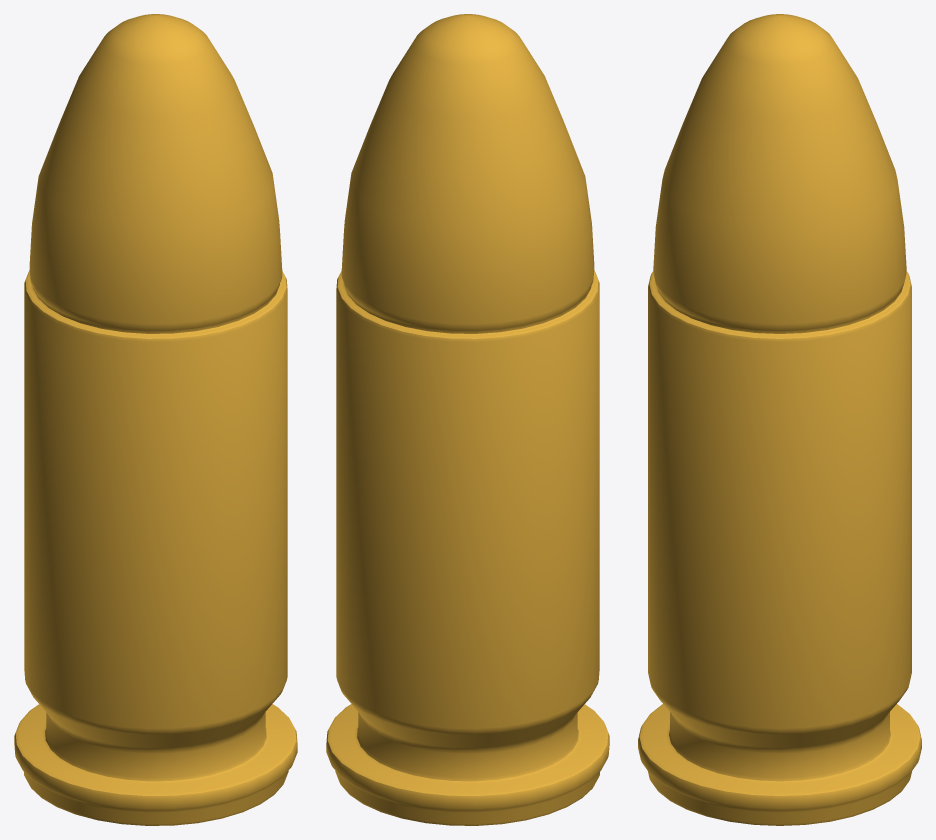
Rendered from bullet_new.fbx.
3 views of the same model, side by side, from view 1: azimuth 30°, elevation 25°; view 2: azimuth 150°, elevation 25°; view 3: azimuth 270°, elevation 25° (orthographic).
Parts seen in each view (by area): view 1: Cylinder; view 2: Cylinder; view 3: Cylinder.
Part boxes in pixels (x1=…): Cylinder: x1=14, y1=14, x2=297, y2=825; Cylinder: x1=326, y1=14, x2=609, y2=825; Cylinder: x1=638, y1=14, x2=921, y2=825.
Size of the model in its own units: 7.99 by 23.47 by 7.99.
